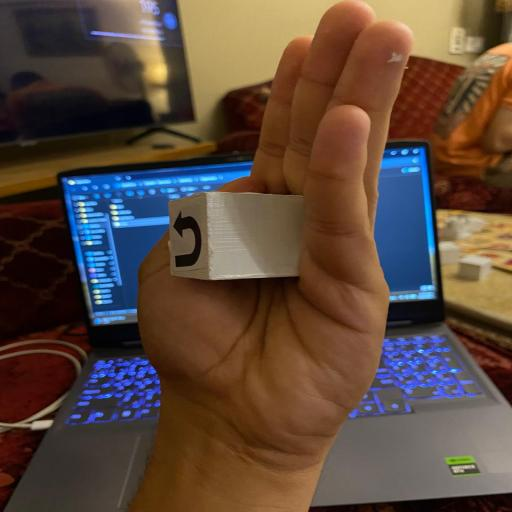Undo: (166, 190, 309, 282)
